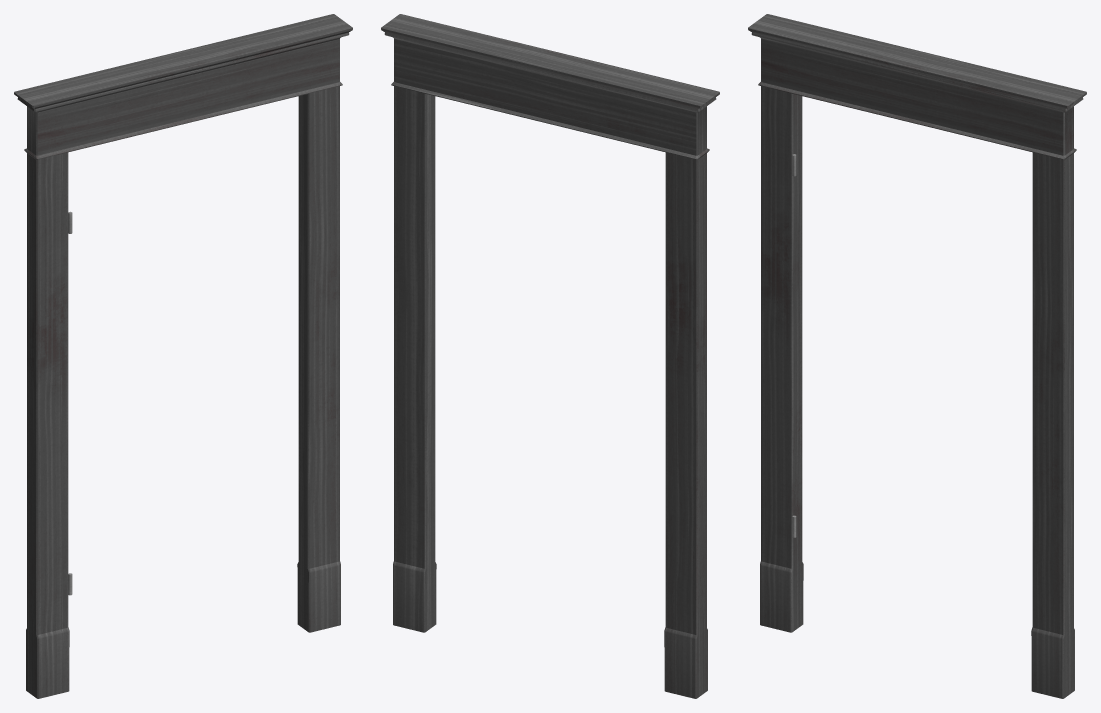
Rendered from SM_DoorFrame.fbx.
3 renders of one model, left to right at view 1: azimuth 30°, elevation 25°; view 2: azimuth 150°, elevation 25°; view 3: azimuth 330°, elevation 25°, orthographic.
Parts seen in each view (by area): view 1: SM_DoorFrame; view 2: SM_DoorFrame; view 3: SM_DoorFrame.
Part boxes in pixels (x1,y1,x2,y2): SM_DoorFrame: [14, 14, 352, 698]; SM_DoorFrame: [381, 14, 719, 698]; SM_DoorFrame: [748, 14, 1086, 698].
Bounding box in the file's own units: 129 × 231 × 13.69.
